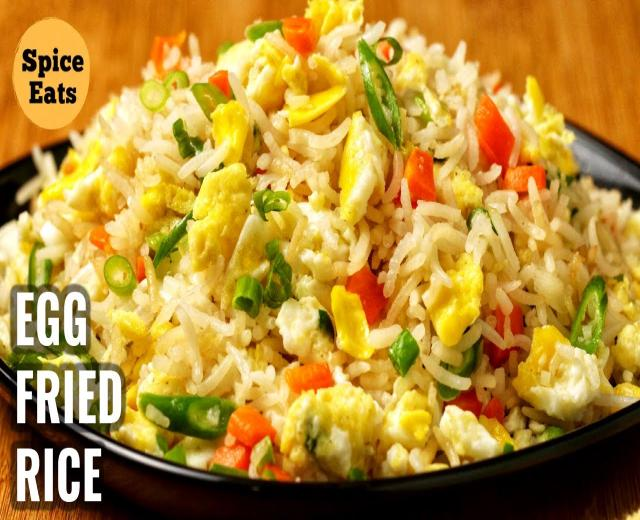fried rice: (1, 4, 633, 484), (233, 70, 345, 202)
